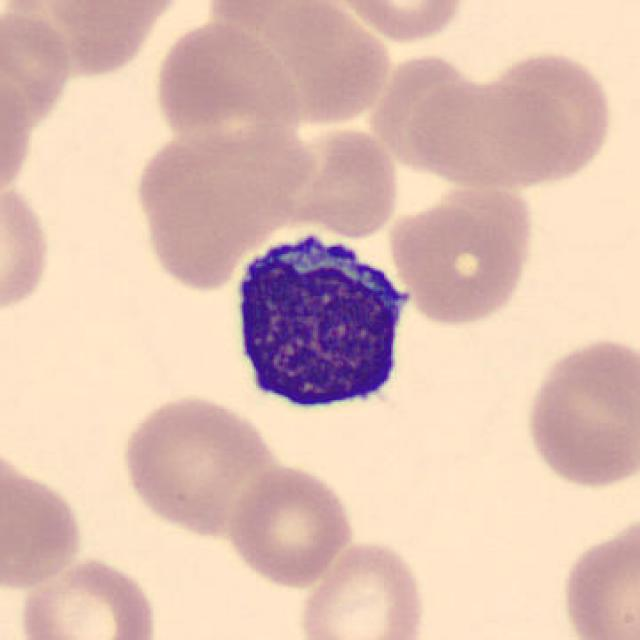Lymphocyte: (222, 220, 420, 425)
RBC: (128, 116, 309, 293), (116, 390, 279, 538), (149, 15, 304, 152), (384, 190, 535, 330), (404, 72, 576, 192), (225, 0, 386, 128), (474, 48, 618, 190), (519, 331, 638, 492), (222, 460, 359, 591), (281, 122, 403, 240), (294, 536, 431, 640), (14, 553, 161, 640), (0, 450, 87, 594), (554, 509, 640, 640), (0, 11, 78, 136), (0, 176, 55, 321), (324, 0, 471, 44), (35, 0, 190, 33), (0, 67, 34, 201)
